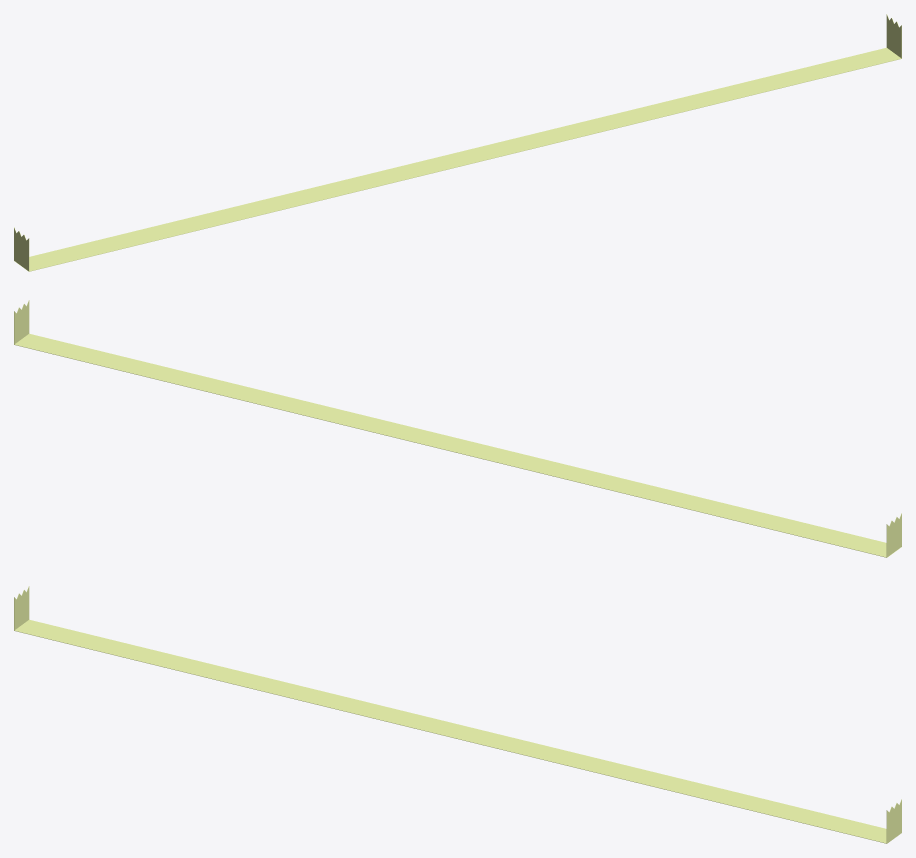
File: BoxTape.fbx
The picture shows the model from 3 angles, top to bottom: view 1: azimuth 30°, elevation 25°; view 2: azimuth 150°, elevation 25°; view 3: azimuth 330°, elevation 25°; orthographic projection.
Parts seen in each view (by area): view 1: BoxTape; view 2: BoxTape; view 3: BoxTape.
Boxes of the visible parts, x1,y1,x2,y2 form: BoxTape: (14,14,901,271); BoxTape: (14,300,901,557); BoxTape: (14,586,901,843).
Size of the model in its own units: 270 by 8 by 10.
